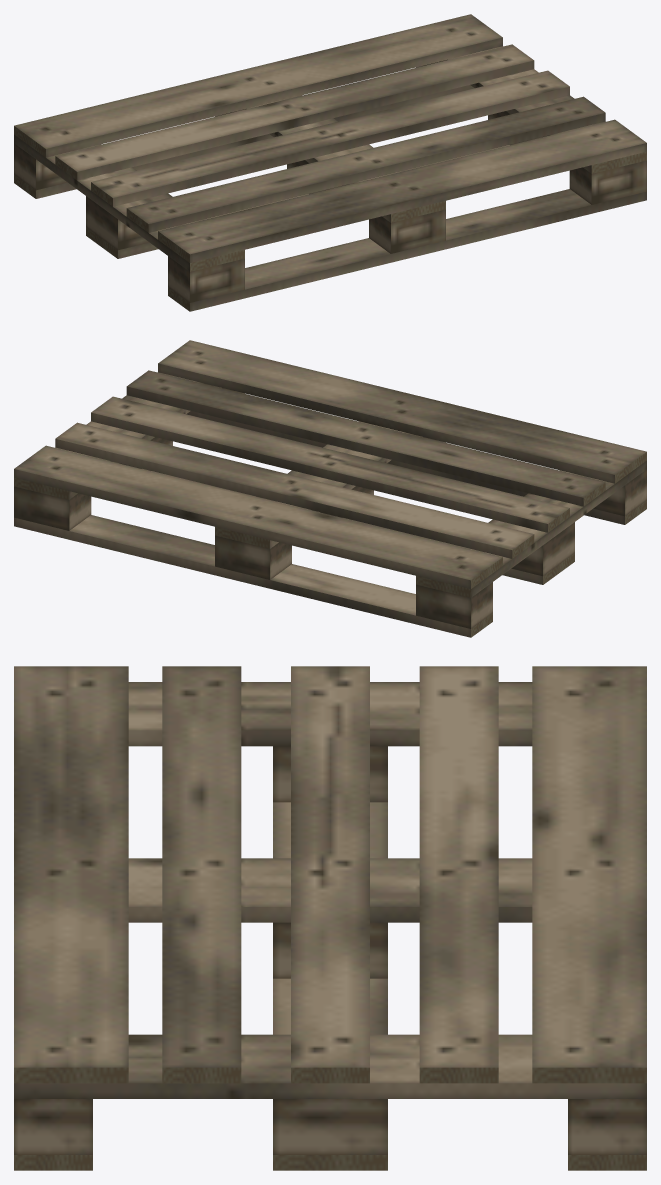
File: pallet_wood.obj
The picture shows the model from 3 angles, top to bottom: view 1: azimuth 30°, elevation 25°; view 2: azimuth 150°, elevation 25°; view 3: azimuth 270°, elevation 25°; orthographic projection. The views are drawn at different scales.
Parts seen in each view (by area): view 1: pallet_wood; view 2: pallet_wood; view 3: pallet_wood.
Part boxes in pixels (x1=…): pallet_wood: x1=14, y1=14, x2=646, y2=311; pallet_wood: x1=14, y1=340, x2=646, y2=637; pallet_wood: x1=14, y1=666, x2=646, y2=1170.
Size of the model in its own units: 1.2 by 0.144 by 0.8.
Materials: 1 (1 with a texture image).
